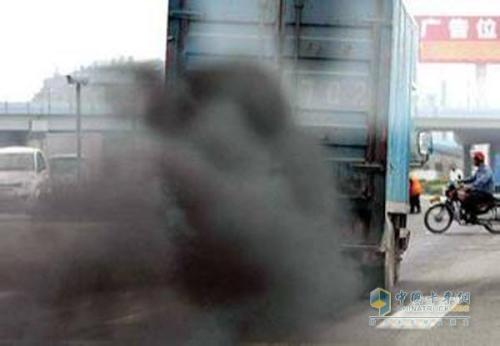smoke: (1, 59, 355, 346)
